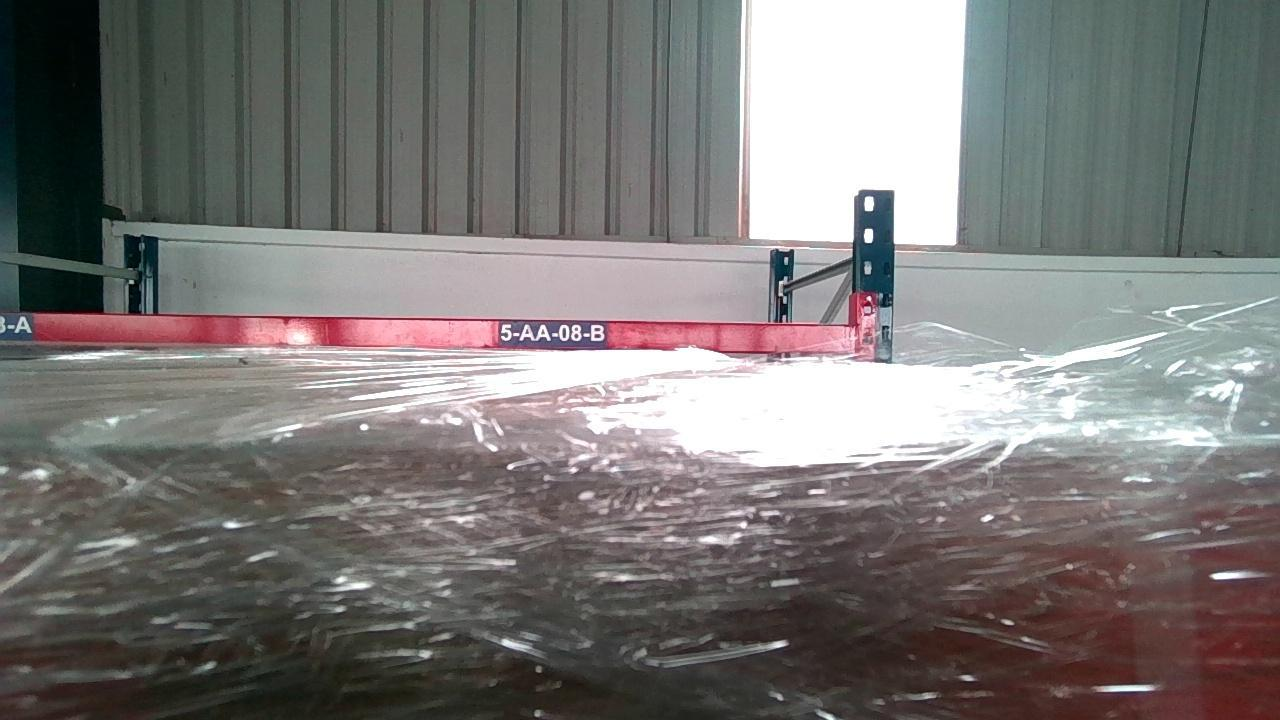h_rack: (0, 309, 855, 351)
